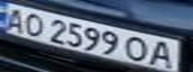2: (42, 16, 69, 45)
5: (63, 20, 84, 50)
9: (100, 28, 124, 56), (81, 25, 103, 52)
A: (148, 38, 181, 70), (0, 6, 30, 33)
O: (121, 34, 154, 63), (18, 11, 48, 38)
